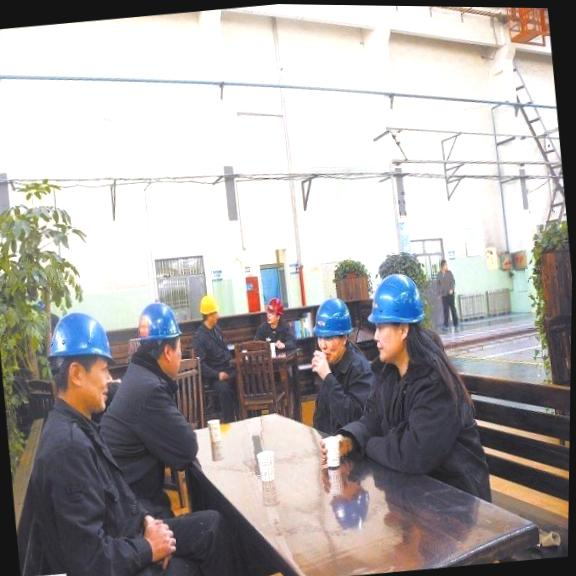no_safety_vest: (37, 404, 166, 576), (363, 348, 496, 509), (109, 359, 204, 484), (305, 348, 380, 445), (190, 320, 234, 374), (250, 318, 297, 354), (431, 268, 457, 301)
